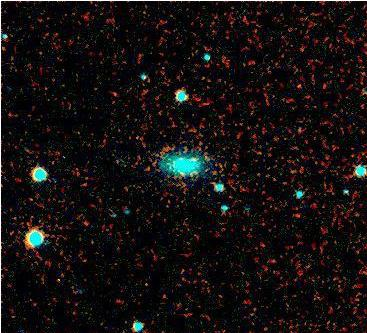star: (179, 143, 209, 173)
